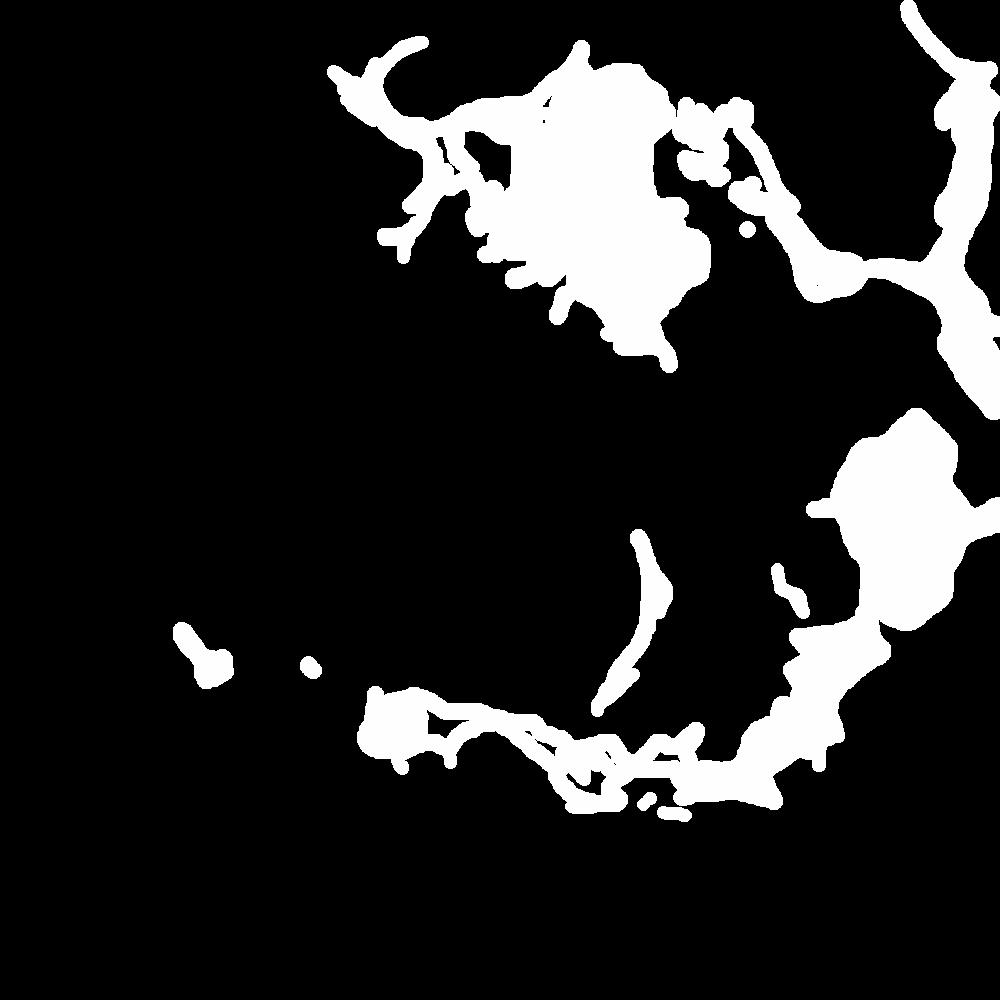illegal: (311, 16, 893, 385), (360, 684, 851, 820), (765, 408, 1000, 692), (891, 2, 1000, 427), (600, 515, 685, 693), (164, 620, 242, 686), (262, 581, 304, 609)
